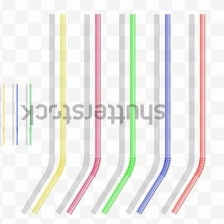drinking_straw: (134, 10, 175, 217), (98, 11, 139, 217), (63, 11, 104, 216), (28, 11, 69, 216), (169, 10, 209, 216)
